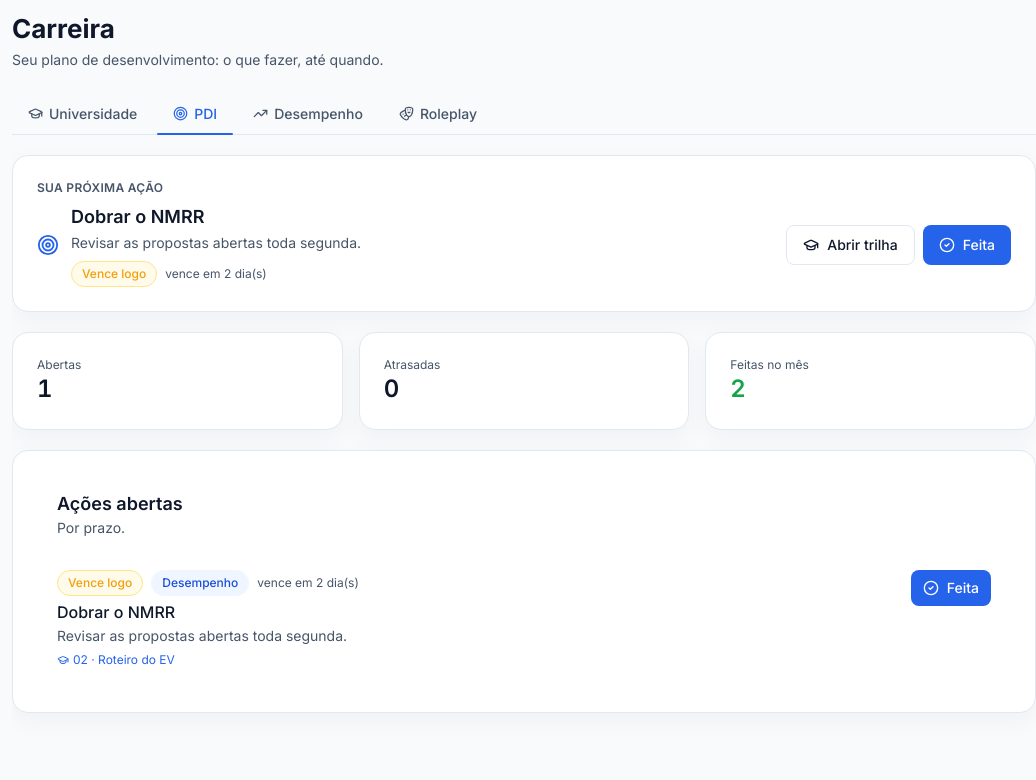
Scenario: PDI › abre na próxima ação e o dono marca como feita
This screenshot has width=1036, height=780.
expect the text "Dobrar o NMRR" below "Sua próxima ação" is shown: met, box [71,206,204,227]
expect the text "vence em 2 dia(s)" below "Sua próxima ação" is shown: met, box [165,266,267,281]
Click the 1st button "Feita": (967, 245) [923,225,1011,265]
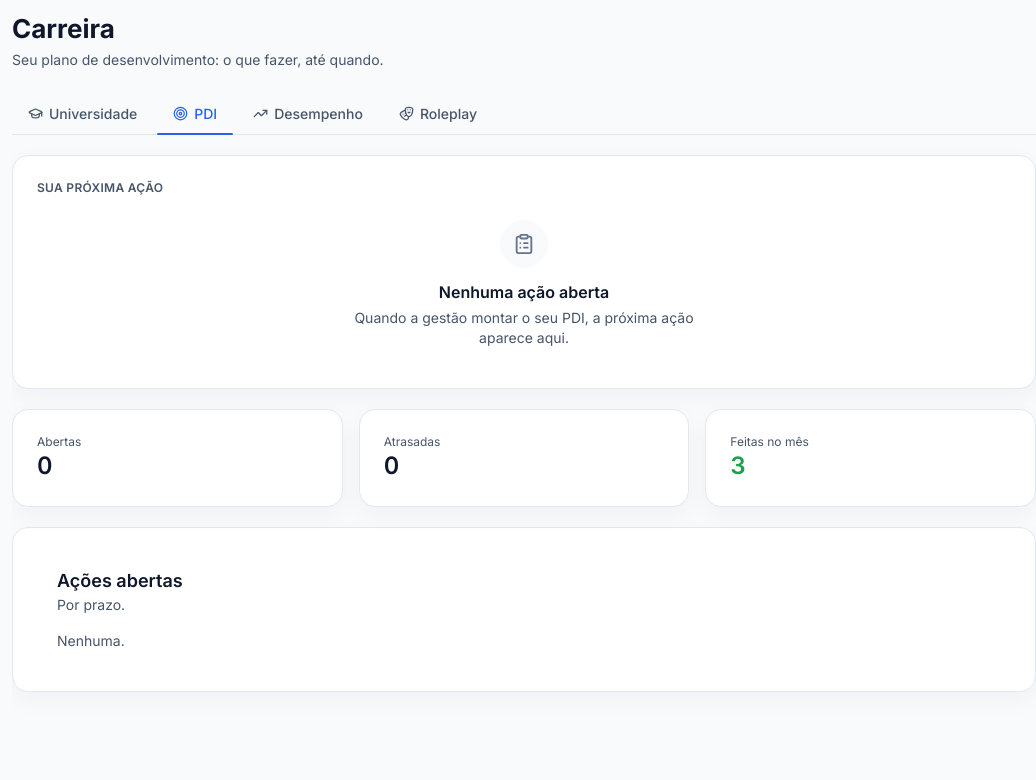
expect the text "Nenhuma ação aberta" is shown: met, box [439,280,609,304]
